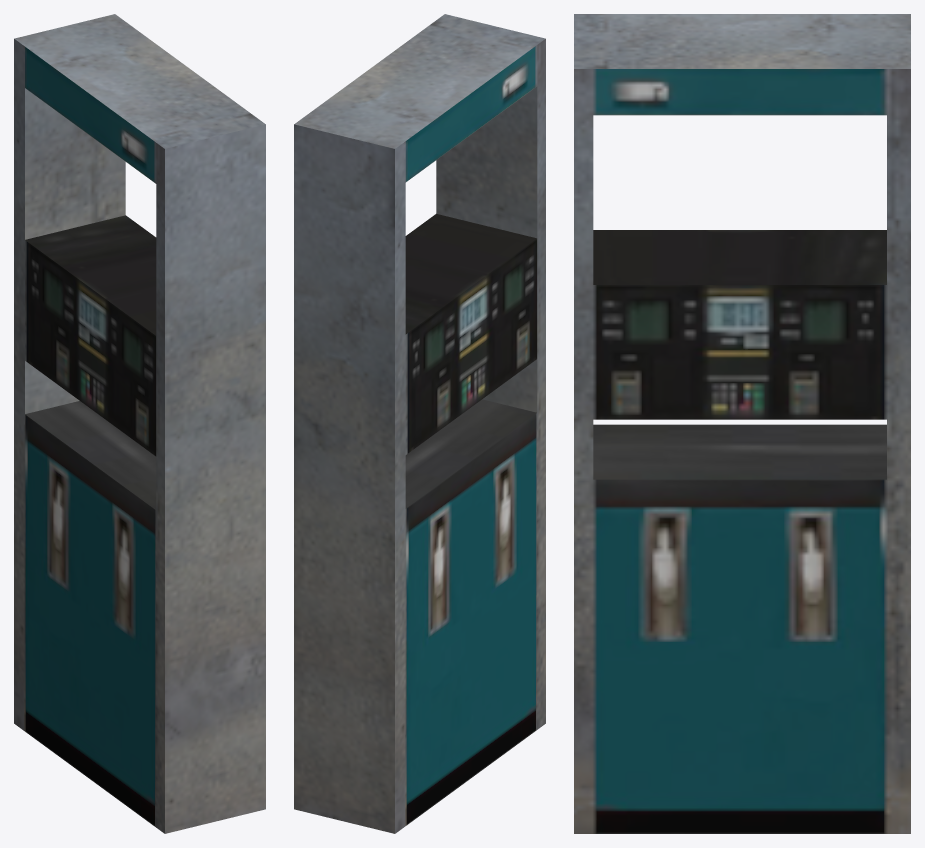
The model's file is gas_pump.obj.
The picture shows the model from 3 angles, left to right: view 1: azimuth 30°, elevation 25°; view 2: azimuth 150°, elevation 25°; view 3: azimuth 270°, elevation 25°; orthographic projection. The views are drawn at different scales.
Visible parts, largest first — view 1: Fuel_pump_; view 2: Fuel_pump_; view 3: Fuel_pump_.
Part boxes in pixels (x1,y1,x2,y2): Fuel_pump_: [14, 14, 265, 833]; Fuel_pump_: [294, 14, 545, 833]; Fuel_pump_: [574, 14, 910, 833].
Size of the model in its own units: 1.3 by 8.42 by 3.36.
